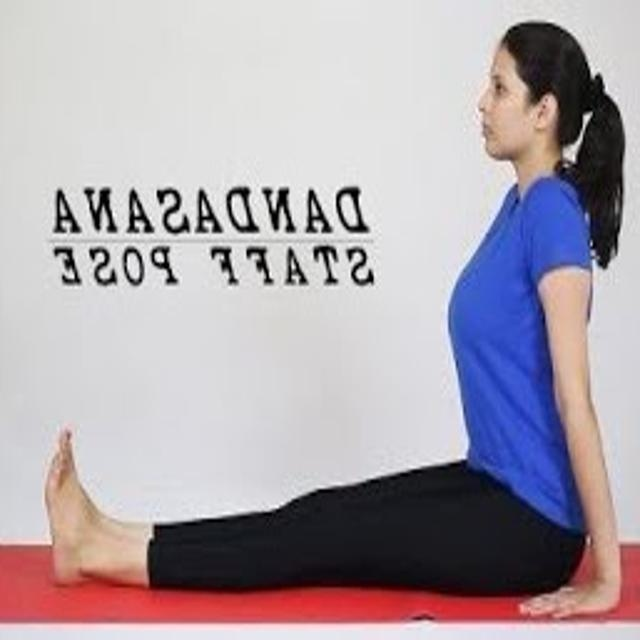Staff_Pose: (45, 22, 622, 620)
